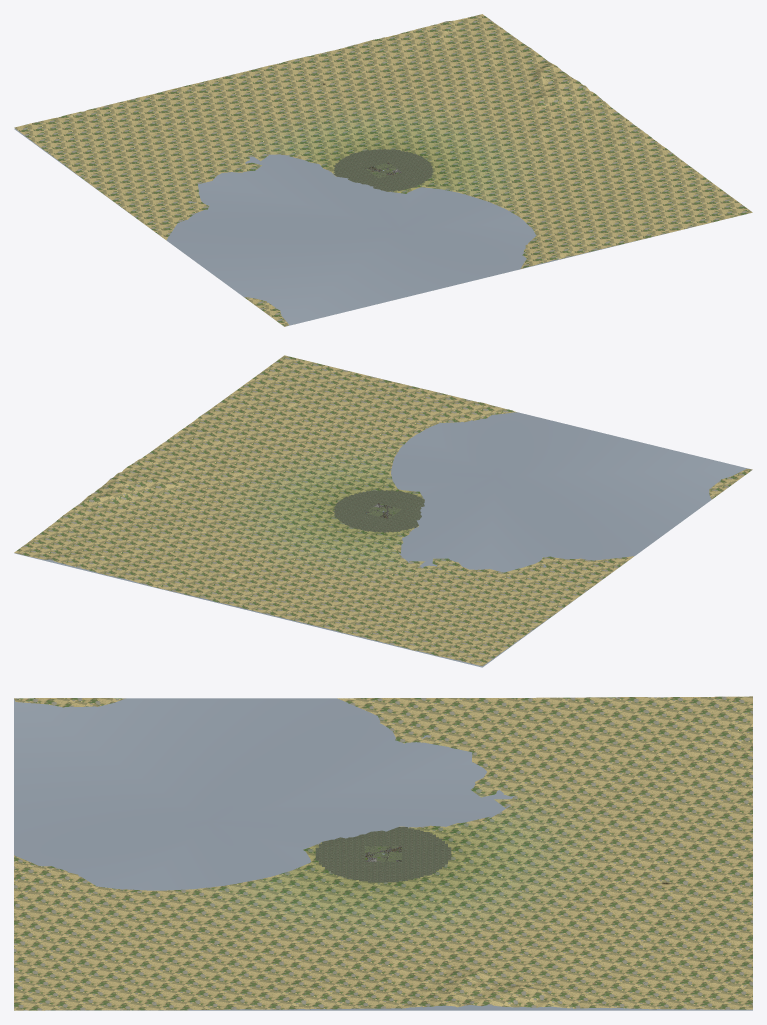
Rendered from moorabbin_backdrop_part1.glb.
3 renders of one model, top to bottom at view 1: azimuth 30°, elevation 25°; view 2: azimuth 150°, elevation 25°; view 3: azimuth 270°, elevation 25°, orthographic. The views are drawn at different scales.
Visible parts, largest first — view 1: bg_far_terrain, bg_far_water, bg_far_suburb; view 2: bg_far_terrain, bg_far_water, bg_far_suburb; view 3: bg_far_terrain, bg_far_water, bg_far_suburb, bg_near_ground.
Boxes of the visible parts, bbox=[...] form: bg_far_terrain: bbox=[14, 14, 752, 326]; bg_far_water: bbox=[14, 128, 698, 326]; bg_far_suburb: bbox=[333, 149, 433, 191]; bg_far_terrain: bbox=[14, 355, 752, 666]; bg_far_water: bbox=[14, 412, 750, 667]; bg_far_suburb: bbox=[333, 490, 424, 532]; bg_far_terrain: bbox=[14, 696, 752, 1010]; bg_far_water: bbox=[14, 698, 752, 1010]; bg_far_suburb: bbox=[315, 827, 451, 882]; bg_near_ground: bbox=[365, 846, 401, 861].
Size of the model in its own units: 60001 by 629 by 60001.
Materials: 25 (17 with a texture image).
